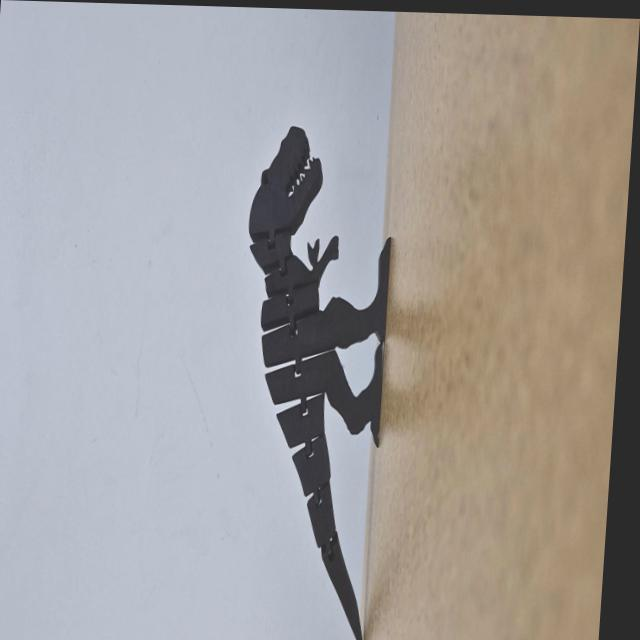dino: (218, 123, 399, 640)
